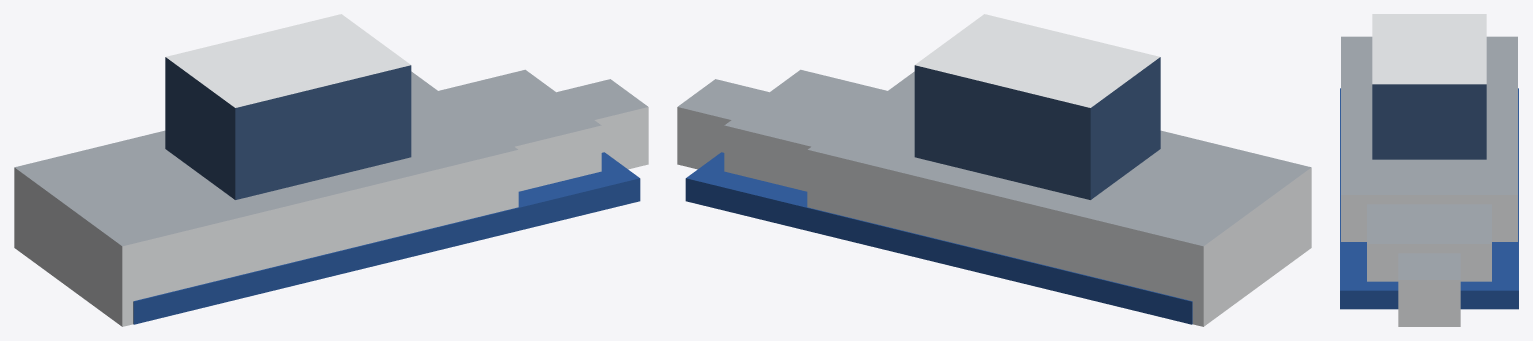
The model's file is boat_motor.glb.
3 views of the same model, side by side, from view 1: azimuth 30°, elevation 25°; view 2: azimuth 150°, elevation 25°; view 3: azimuth 270°, elevation 25° (orthographic). The views are drawn at different scales.
Parts seen in each view (by area): view 1: boat_motor; view 2: boat_motor; view 3: boat_motor.
Boxes of the visible parts, x1,y1,x2,y2 form: boat_motor: (14, 14, 648, 326); boat_motor: (677, 14, 1311, 326); boat_motor: (1340, 14, 1518, 326).
Bounding box in the file's own units: 0.51 × 0.15 × 0.172.
